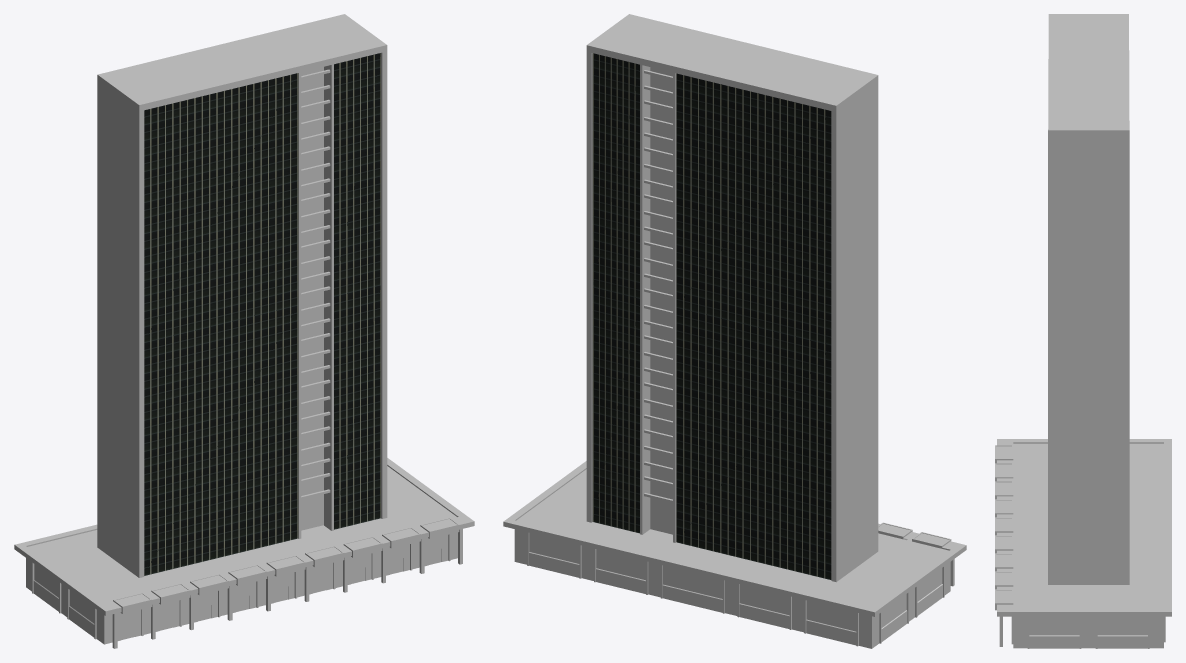
3 renders of one model, left to right at view 1: azimuth 30°, elevation 25°; view 2: azimuth 150°, elevation 25°; view 3: azimuth 270°, elevation 25°, orthographic. The views are drawn at different scales.
Visible parts, largest first — view 1: BC-030; view 2: BC-030; view 3: BC-030.
Part boxes in pixels (x1,y1,x2,y2): BC-030: (14,14,474,648); BC-030: (503,14,966,648); BC-030: (995,14,1171,648).
Size of what is drawn, in the model's own units: 74.48 by 98.93 by 32.18.
